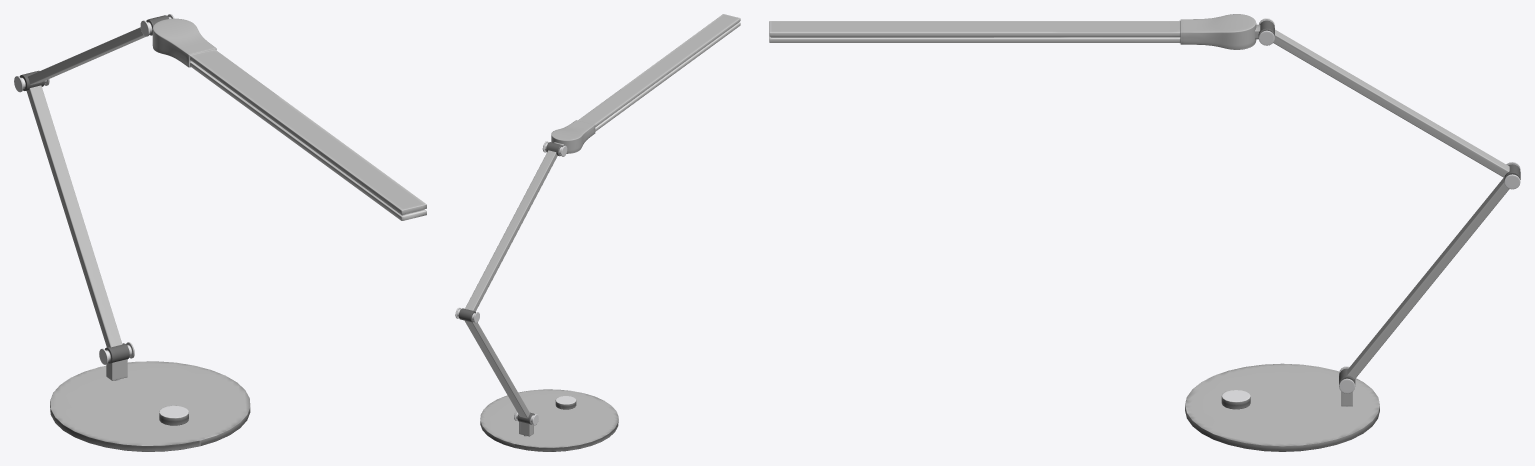
Rendered from bk_lamp.obj.
3 views of the same model, side by side, from view 1: azimuth 30°, elevation 25°; view 2: azimuth 150°, elevation 25°; view 3: azimuth 270°, elevation 25° (orthographic). The views are drawn at different scales.
Bounding box in the file's own units: 0.4528 × 1 × 1.74.
1 material, 1 textured.
